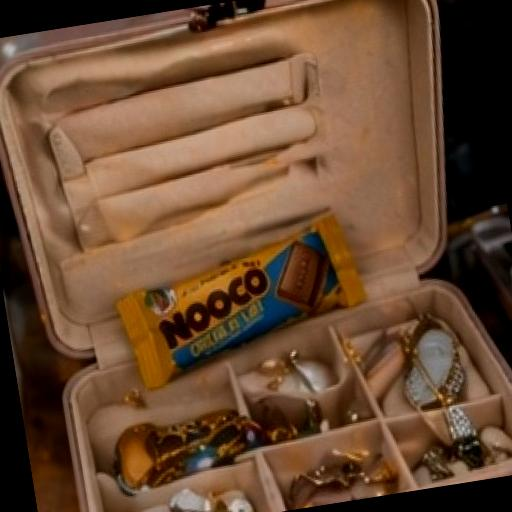biscuit-detection: (93, 172, 398, 406)
